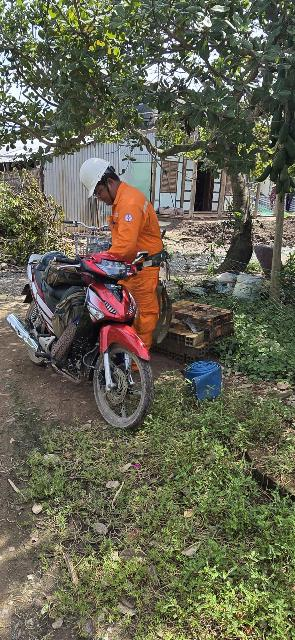harness: (125, 247, 188, 274)
helmet: (73, 154, 119, 198)
